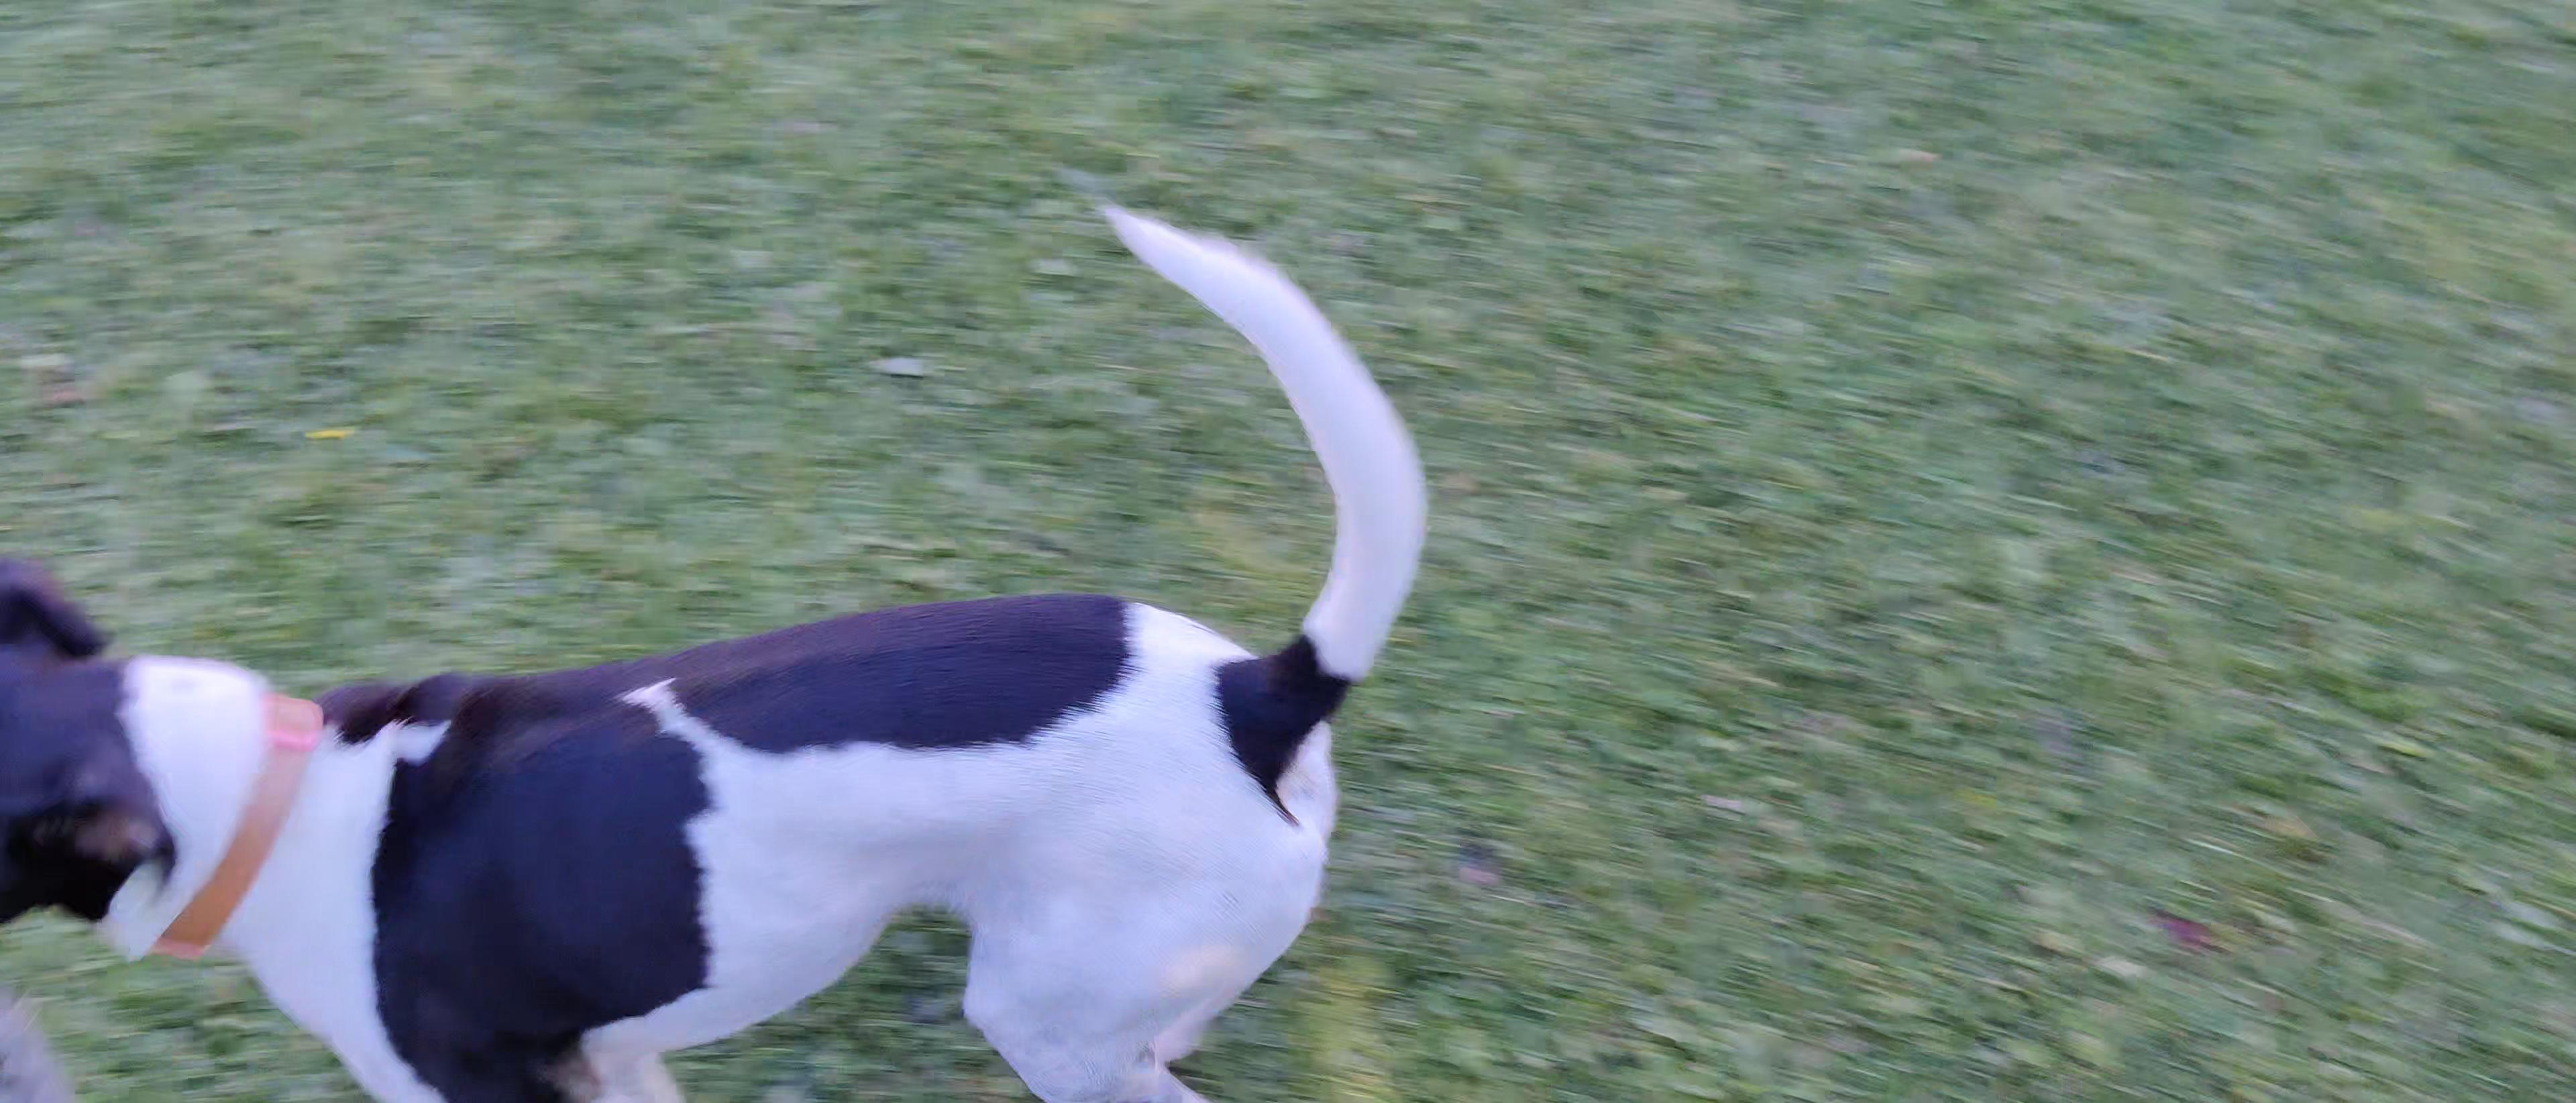Dog: (0, 163, 1449, 1103)
